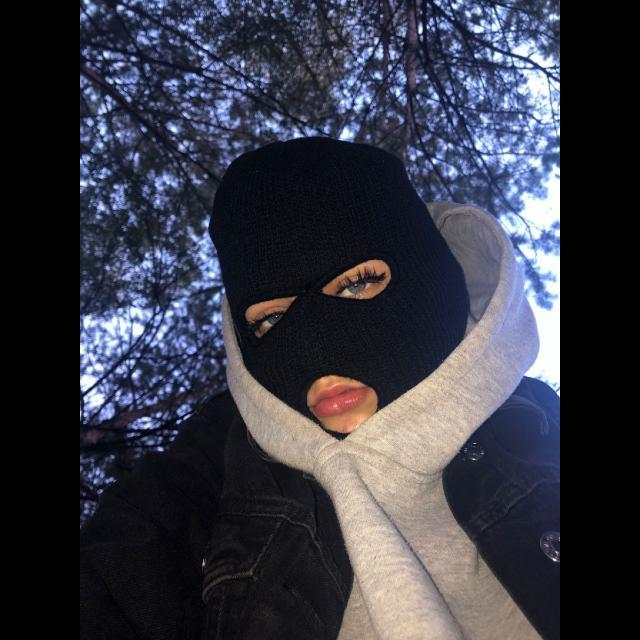criminal: (80, 136, 560, 640)
